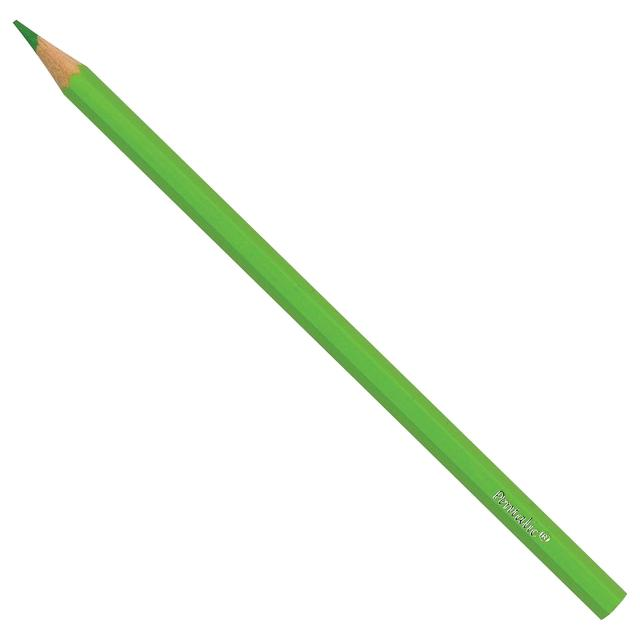pencil: (12, 12, 640, 631)
